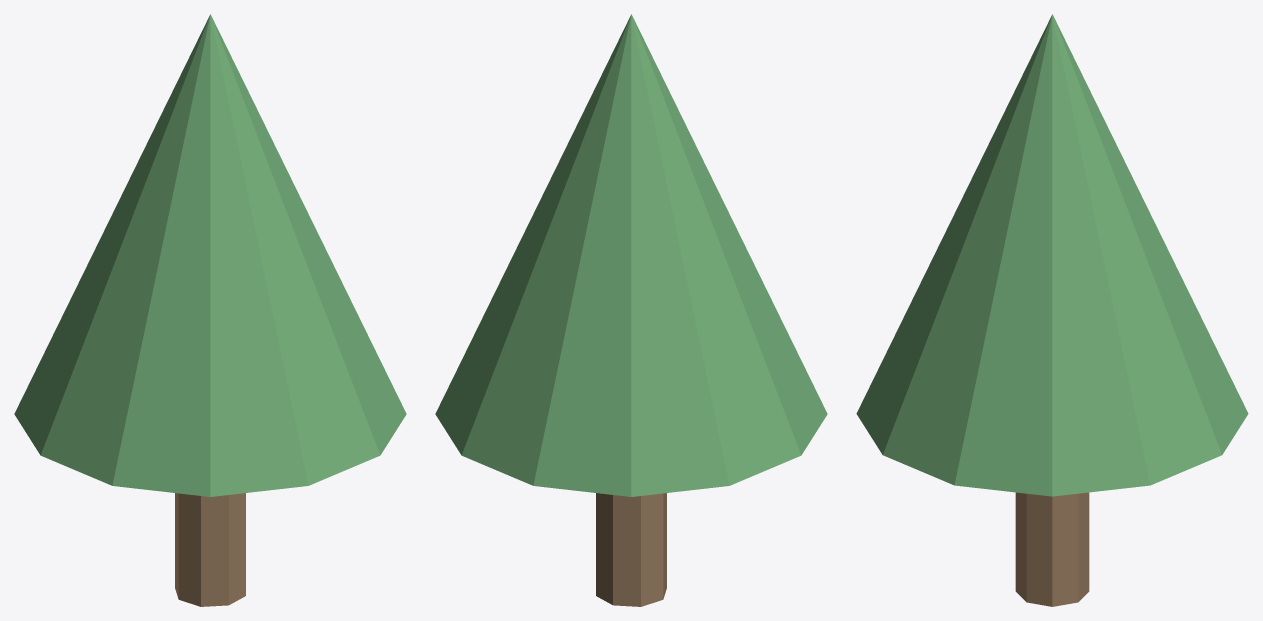
File: tree.glb
The picture shows the model from 3 angles, left to right: view 1: azimuth 30°, elevation 25°; view 2: azimuth 150°, elevation 25°; view 3: azimuth 270°, elevation 25°; orthographic projection.
Parts seen in each view (by area): view 1: tree; view 2: tree; view 3: tree.
Part boxes in pixels (x1=…): tree: x1=14, y1=14, x2=406, y2=606; tree: x1=435, y1=14, x2=827, y2=606; tree: x1=856, y1=14, x2=1248, y2=606.
Size of the model in its own units: 1.6 by 2.6 by 1.6.
